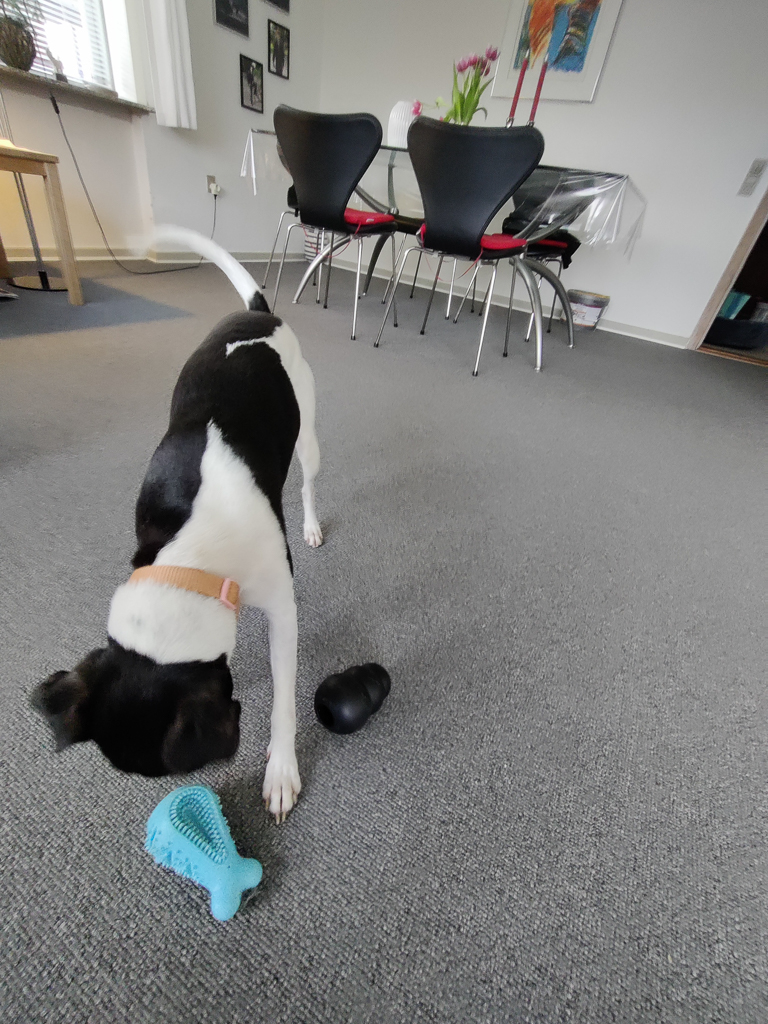Dog: (16, 203, 366, 852)
